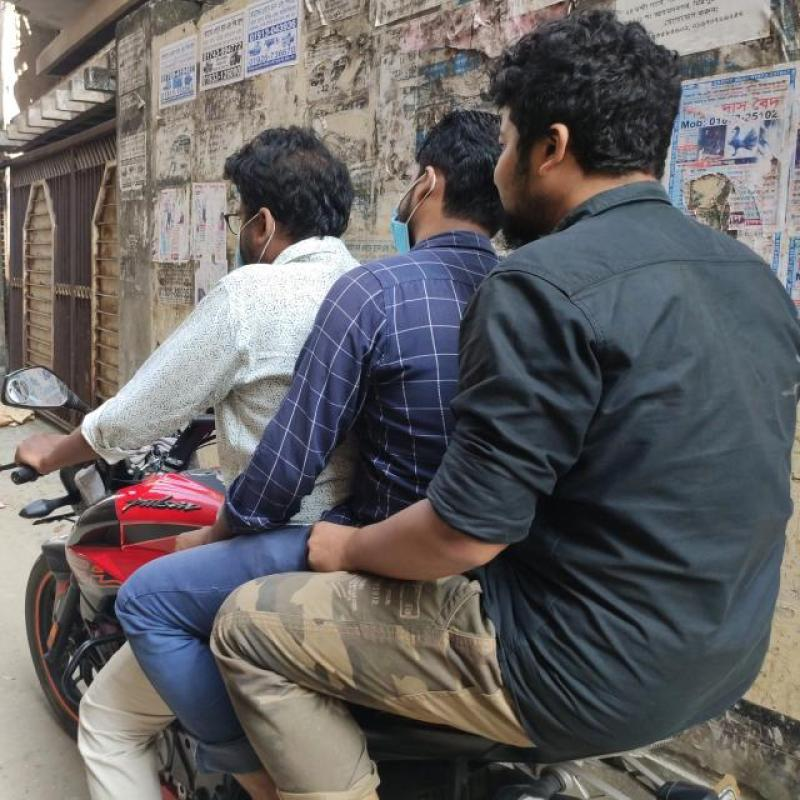nohelmet: (514, 23, 666, 202), (216, 122, 350, 263), (395, 103, 516, 258)
